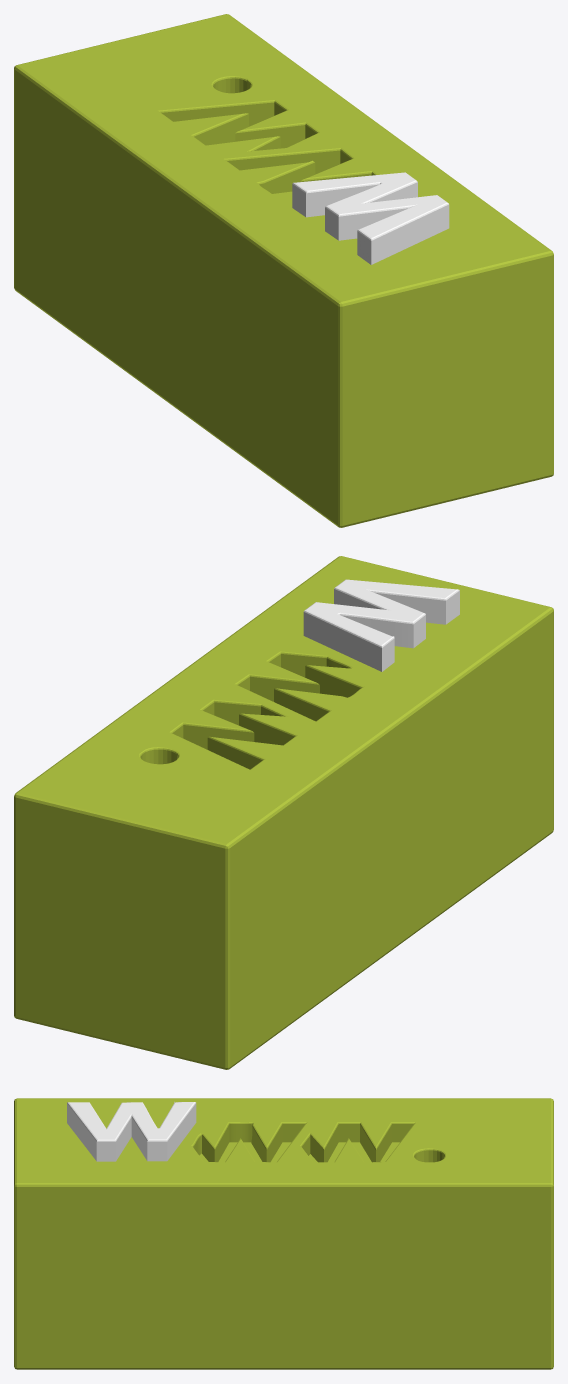
File: sotd.glb
3 renders of one model, top to bottom at view 1: azimuth 30°, elevation 25°; view 2: azimuth 150°, elevation 25°; view 3: azimuth 270°, elevation 25°, orthographic. The views are drawn at different scales.
Parts seen in each view (by area): view 1: base, highlight; view 2: base, highlight; view 3: base, highlight.
Part boxes in pixels (left/top/right/bottom): base: left=14, top=14, right=553, bottom=527; highlight: left=292, top=172, right=449, bottom=264; base: left=14, top=556, right=553, bottom=1069; highlight: left=303, top=579, right=459, bottom=671; base: left=14, top=1098, right=553, bottom=1369; highlight: left=67, top=1102, right=196, bottom=1161.
Bounding box in the file's own units: 0.629 × 0.7006 × 1.65.
